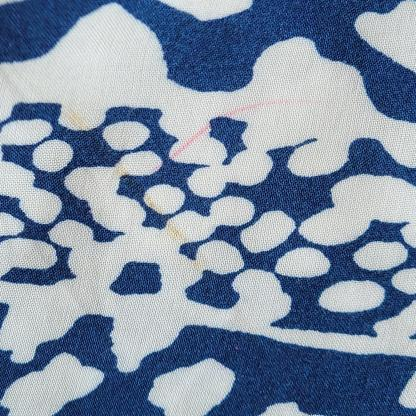spot: (60, 106, 210, 257), (148, 95, 358, 179)
